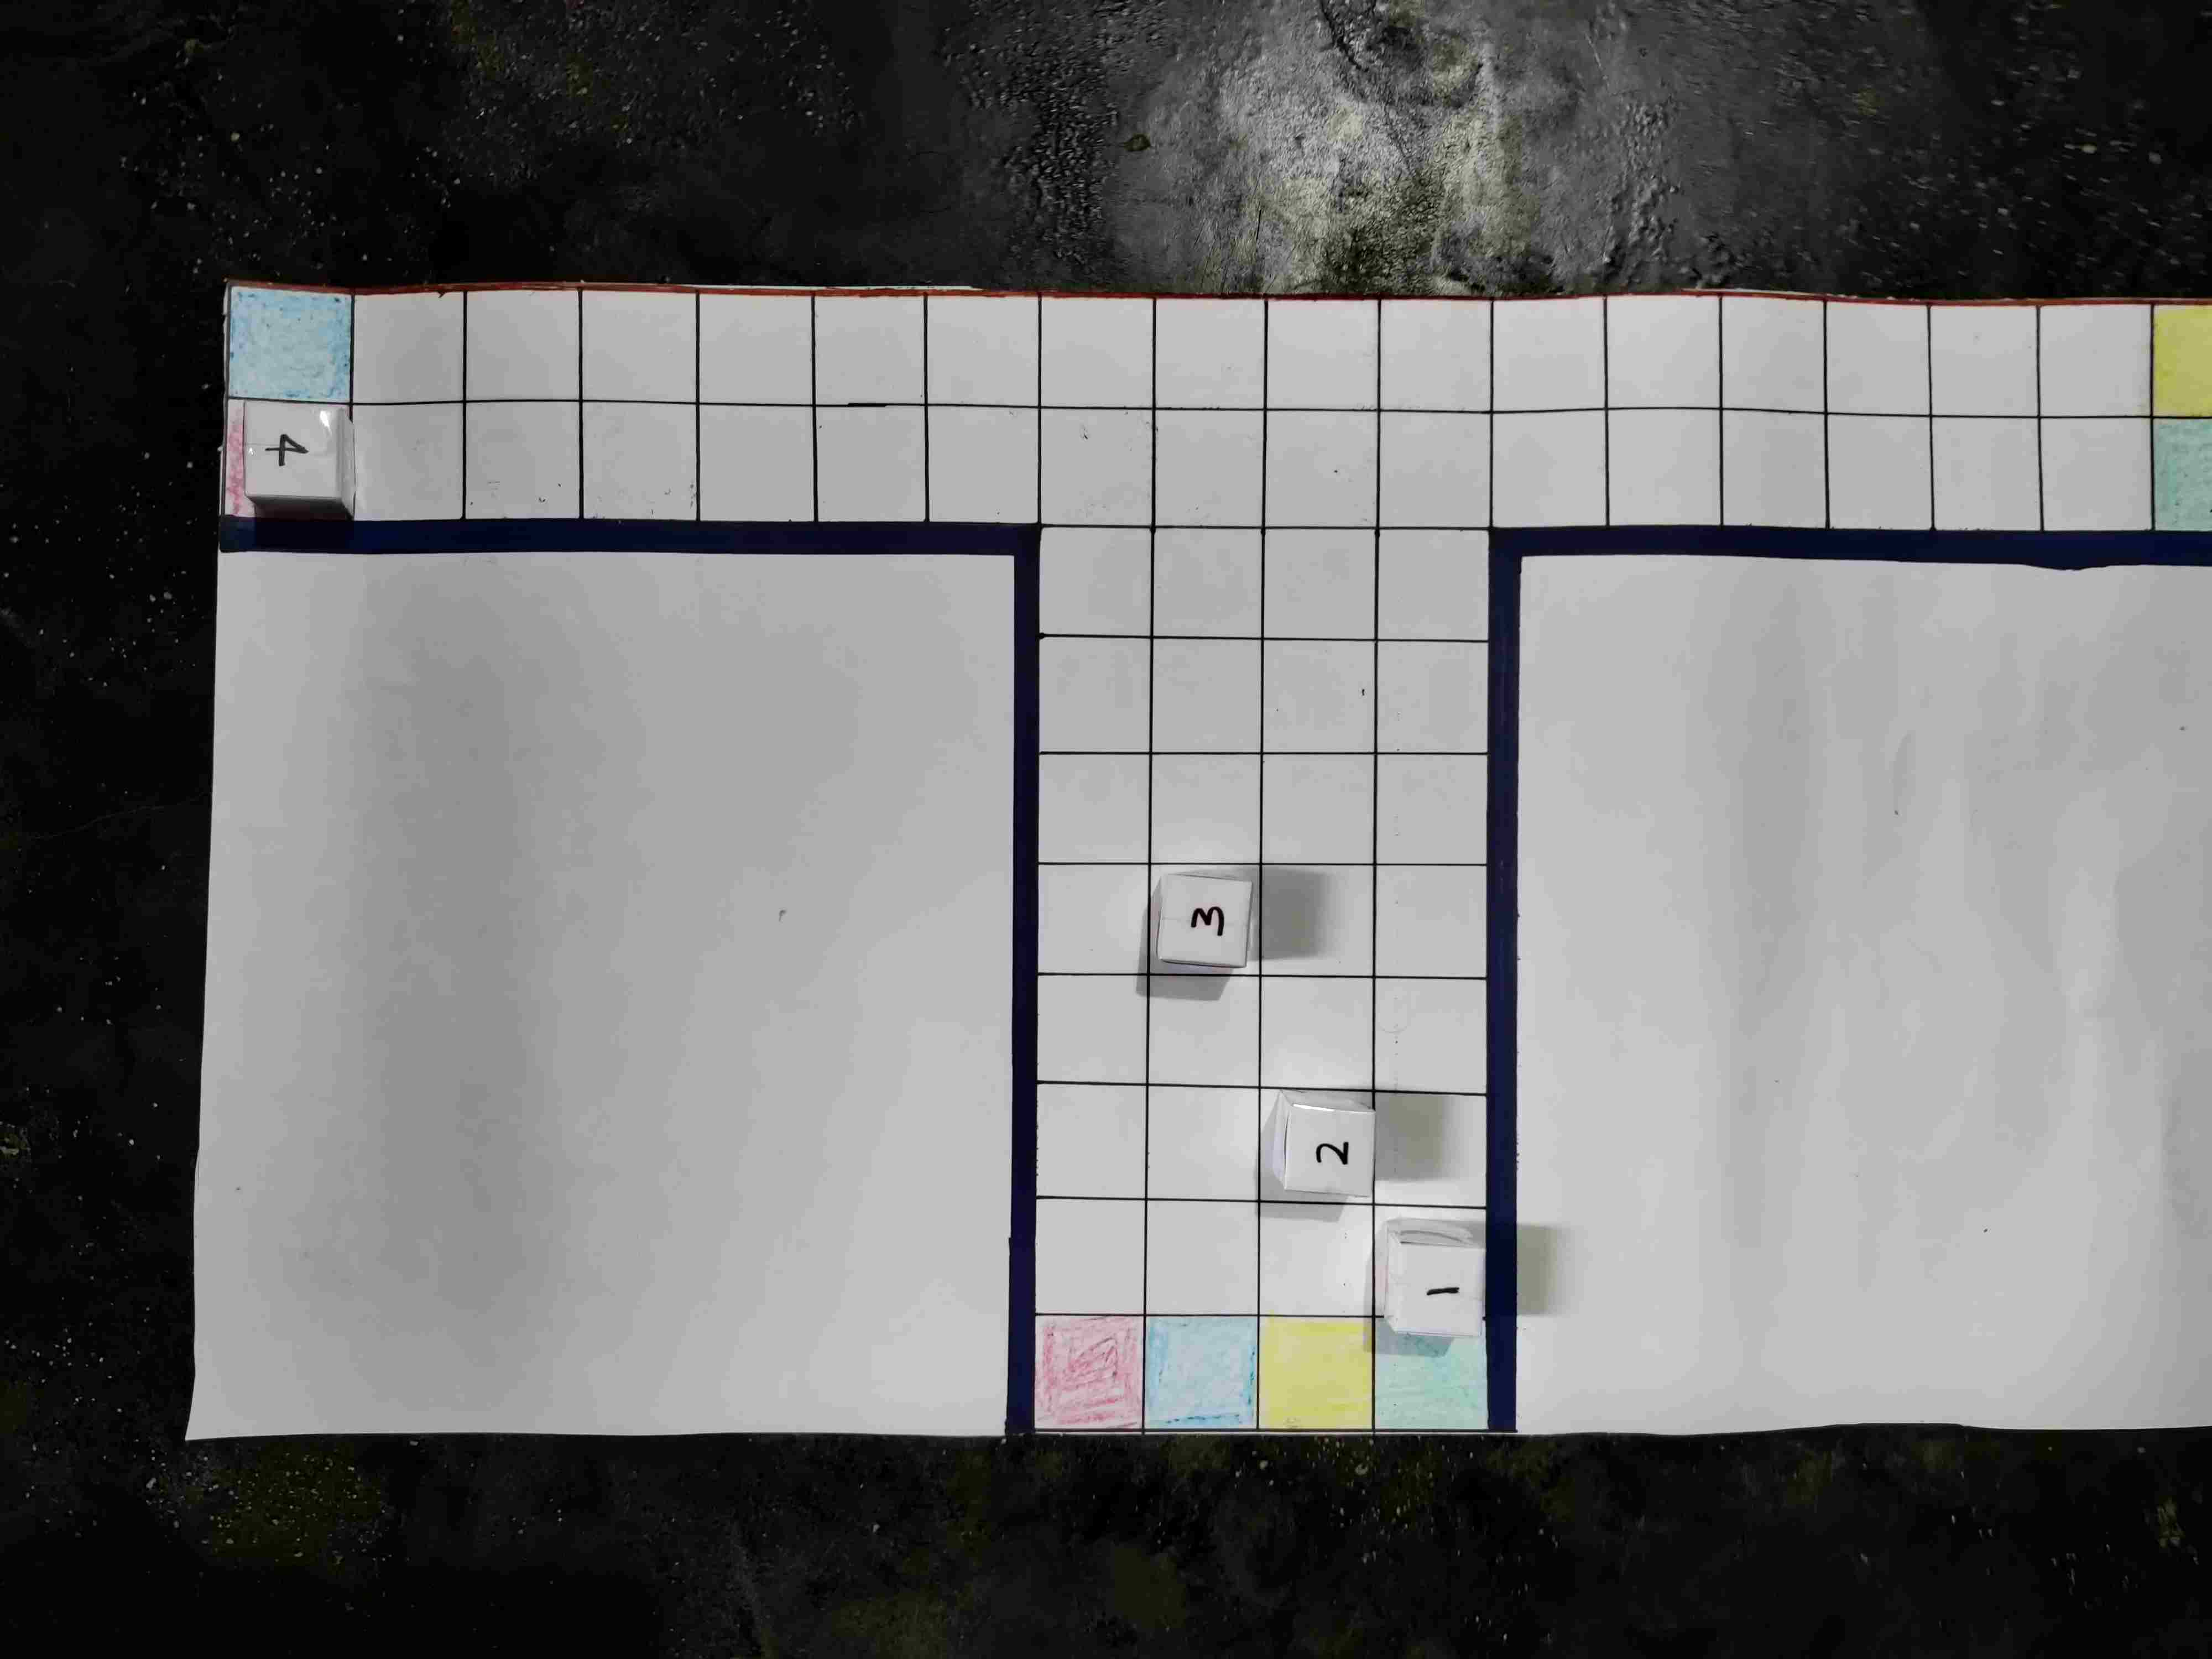arena: (91, 373, 2038, 1439)
bot: (890, 495, 970, 592), (312, 1377, 401, 1462), (1087, 1375, 1179, 1457), (1188, 718, 1275, 793)
